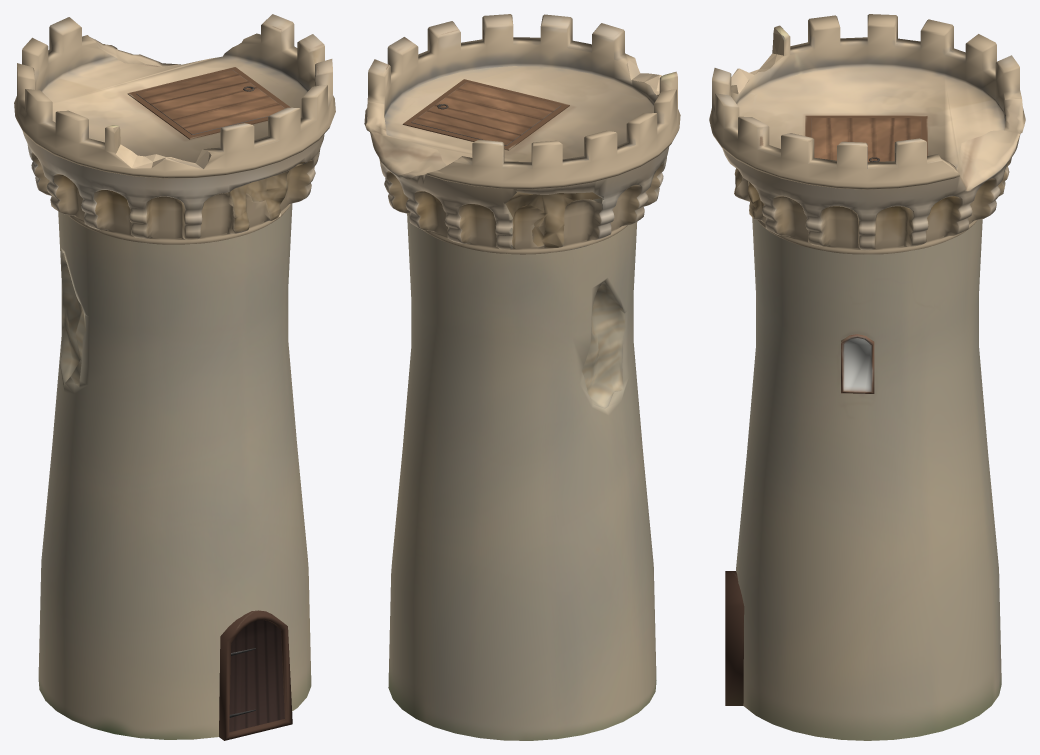
The model's file is TowerDamaged2.gltf.
The picture shows the model from 3 angles, left to right: view 1: azimuth 30°, elevation 25°; view 2: azimuth 150°, elevation 25°; view 3: azimuth 270°, elevation 25°; orthographic projection.
Visible parts, largest first — view 1: Cylinder.004; view 2: Cylinder.004; view 3: Cylinder.004.
Part boxes in pixels (box(x1,y1,x2,y2)): Cylinder.004: box(14, 14, 335, 740); Cylinder.004: box(364, 14, 680, 740); Cylinder.004: box(709, 14, 1025, 740).
Size of the model in its own units: 6.29 by 13.24 by 6.29.
1 material, 1 textured.
